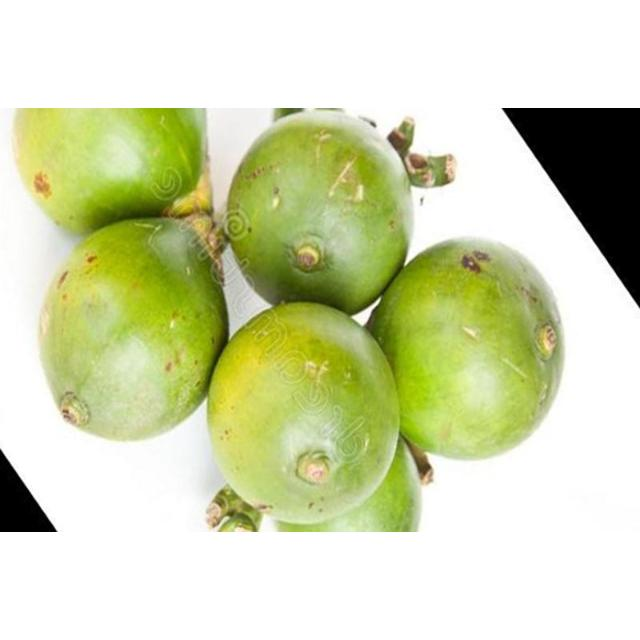good: (205, 302, 425, 532), (363, 238, 563, 462), (38, 218, 230, 445), (224, 110, 410, 319), (20, 108, 212, 237)
